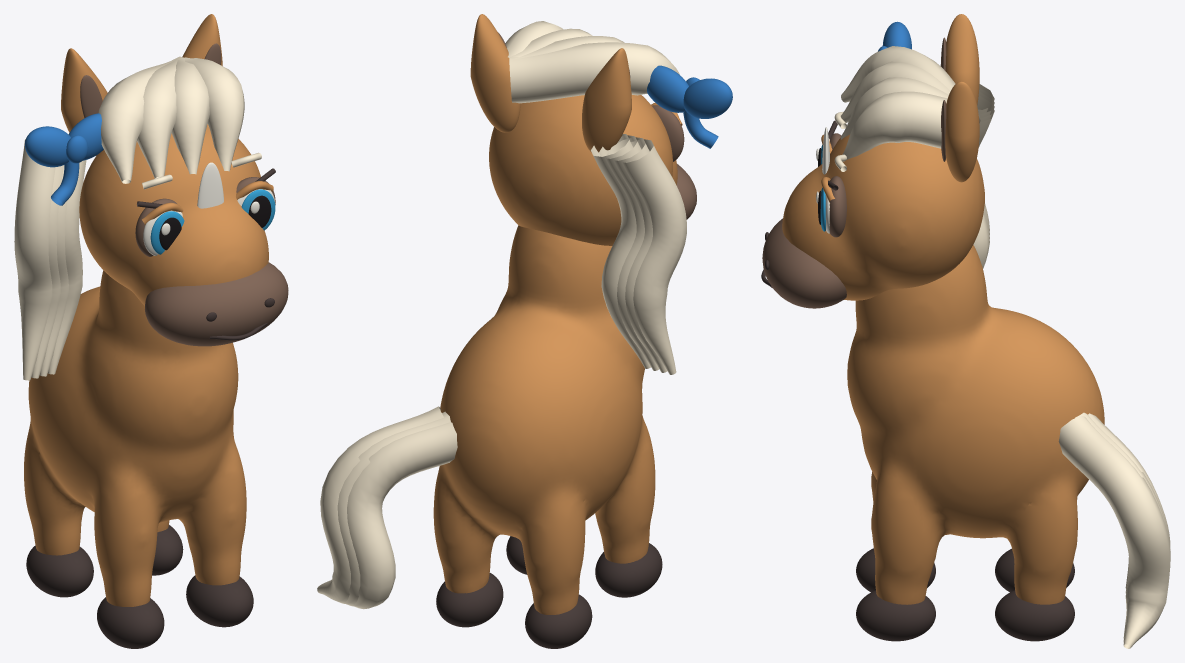
The model's file is elsie.glb.
The picture shows the model from 3 angles, left to right: view 1: azimuth 30°, elevation 25°; view 2: azimuth 150°, elevation 25°; view 3: azimuth 270°, elevation 25°; orthographic projection.
Visible parts, largest first — view 1: Sculpted body and legs, Sculpted equine face, Velvet soft muzzle, Layered mane lock.003, Broad swept forelock, Broad swept forelock.003, Broad swept forelock.001, Broad swept forelock.002, Soft square hoof.001, Soft square hoof.002, Soft square hoof, Layered mane lock (+16 smaller); view 2: Sculpted body and legs, Sculpted equine face, Full curled tail, Layered mane lock.003, Broad swept forelock, Full curled tail.002, Leaf shaped ear.001, Leaf shaped ear, Layered mane lock, Soft square hoof.003, Soft square hoof, Soft square hoof.001 (+11 smaller); view 3: Sculpted body and legs, Sculpted equine face, Full curled tail.002, Broad swept forelock.003, Velvet soft muzzle, Leaf shaped ear.001, Soft square hoof.002, Soft square hoof.003, Leaf shaped ear, Broad swept forelock, Broad swept forelock.001, Broad swept forelock.002 (+7 smaller).
Part boxes in pixels (x1,y1,x2,y2): Sculpted body and legs: (24, 270, 246, 606); Sculpted equine face: (79, 124, 268, 305); Velvet soft muzzle: (145, 262, 288, 346); Layered mane lock.003: (14, 139, 55, 380); Broad swept forelock: (98, 56, 184, 183); Broad swept forelock.003: (185, 57, 244, 171); Broad swept forelock.001: (137, 58, 183, 178); Broad swept forelock.002: (171, 58, 209, 174); Soft square hoof.001: (26, 545, 93, 597); Soft square hoof.002: (186, 575, 253, 627); Soft square hoof: (97, 597, 164, 648); Layered mane lock: (48, 134, 86, 374); Sculpted body and legs: (433, 225, 655, 614); Sculpted equine face: (489, 95, 677, 245); Full curled tail: (347, 422, 457, 609); Layered mane lock.003: (619, 139, 686, 374); Broad swept forelock: (509, 42, 679, 103); Full curled tail.002: (317, 406, 443, 603); Leaf shaped ear.001: (470, 14, 520, 132); Leaf shaped ear: (582, 48, 631, 152); Layered mane lock: (591, 134, 650, 368); Soft square hoof.003: (436, 573, 503, 627); Soft square hoof: (595, 543, 662, 597); Soft square hoof.001: (525, 594, 592, 648); Sculpted body and legs: (847, 245, 1104, 604); Sculpted equine face: (782, 134, 984, 300); Full curled tail.002: (1058, 416, 1170, 648); Broad swept forelock.003: (842, 91, 947, 159); Velvet soft muzzle: (762, 218, 846, 308); Leaf shaped ear.001: (945, 81, 979, 182); Soft square hoof.002: (856, 590, 935, 641); Soft square hoof.003: (995, 590, 1074, 641); Leaf shaped ear: (945, 14, 979, 105); Broad swept forelock: (841, 46, 980, 123); Broad swept forelock.001: (841, 61, 950, 122); Broad swept forelock.002: (840, 77, 948, 139).
Size of the model in its own units: 1.27 by 2.35 by 1.53.
